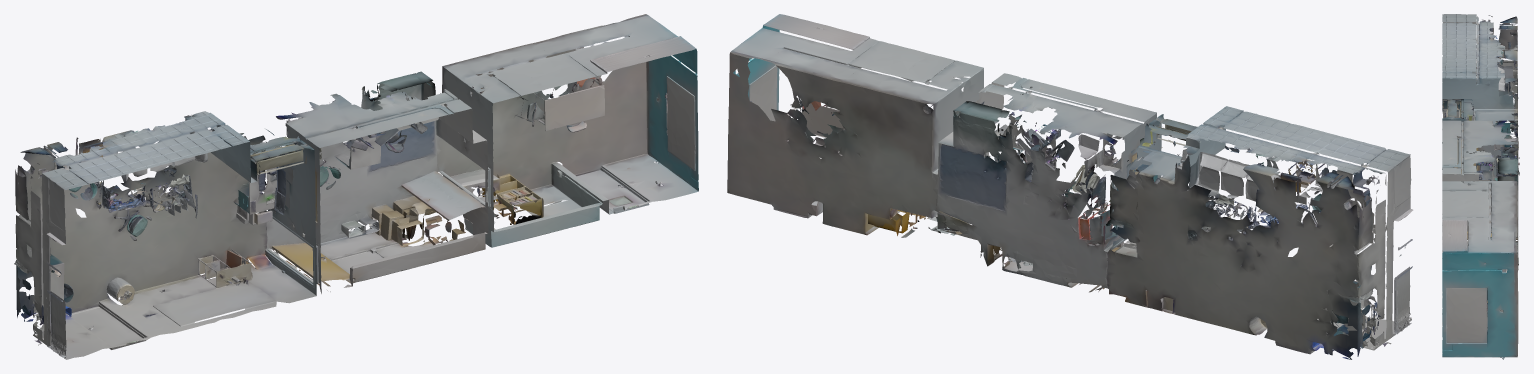
The model's file is reference_scene078.glb.
3 renders of one model, left to right at view 1: azimuth 30°, elevation 25°; view 2: azimuth 150°, elevation 25°; view 3: azimuth 270°, elevation 25°, orthographic. The views are drawn at different scales.
Size of the model in its own units: 16.22 by 4.35 by 2.32.
